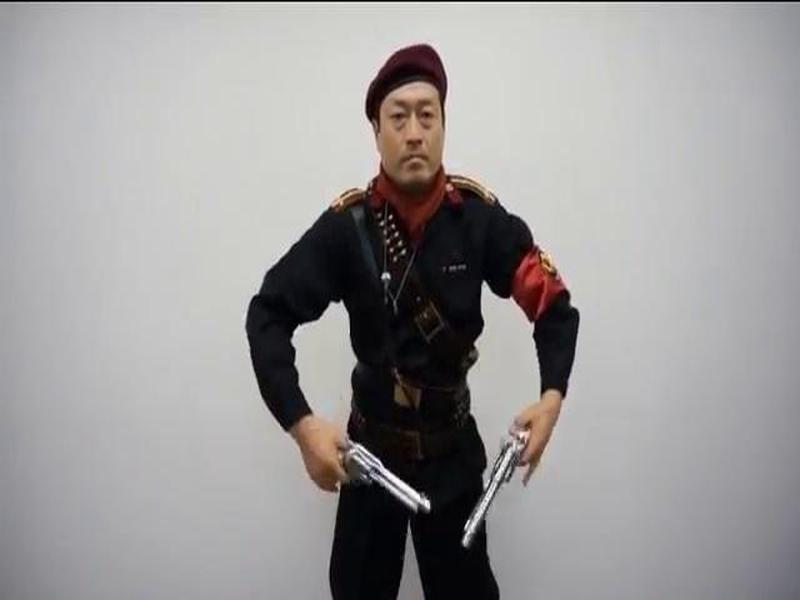Revolver: (328, 428, 450, 534), (461, 435, 541, 546)
